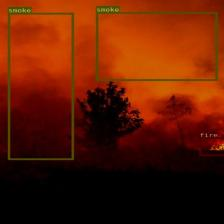fire: (198, 137, 224, 155)
smoke: (7, 12, 73, 160), (96, 11, 218, 80)
